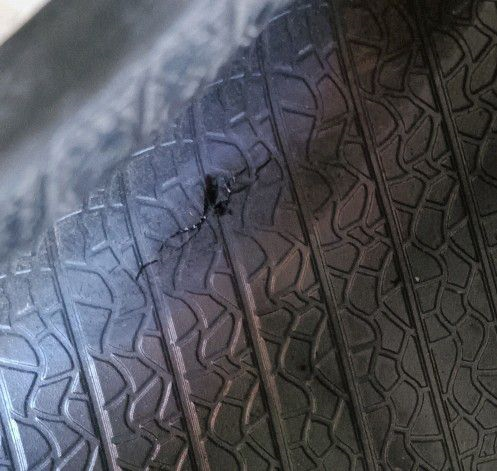CBU: (125, 162, 255, 294)
